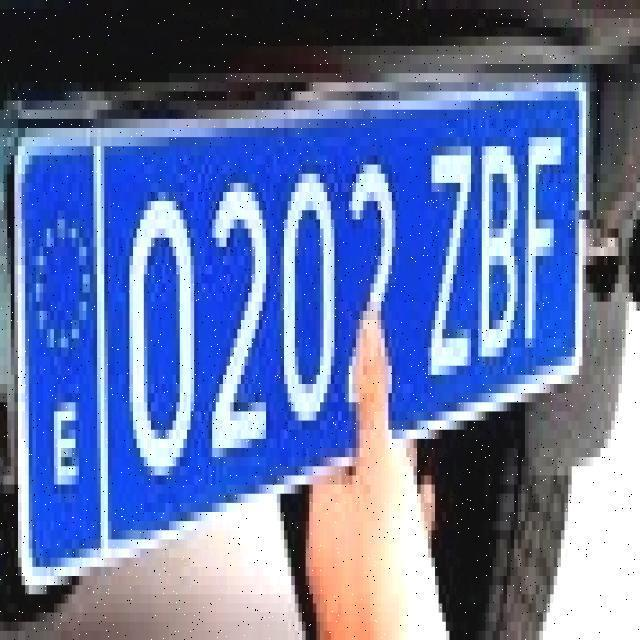LicensePlate: (8, 42, 607, 597)
